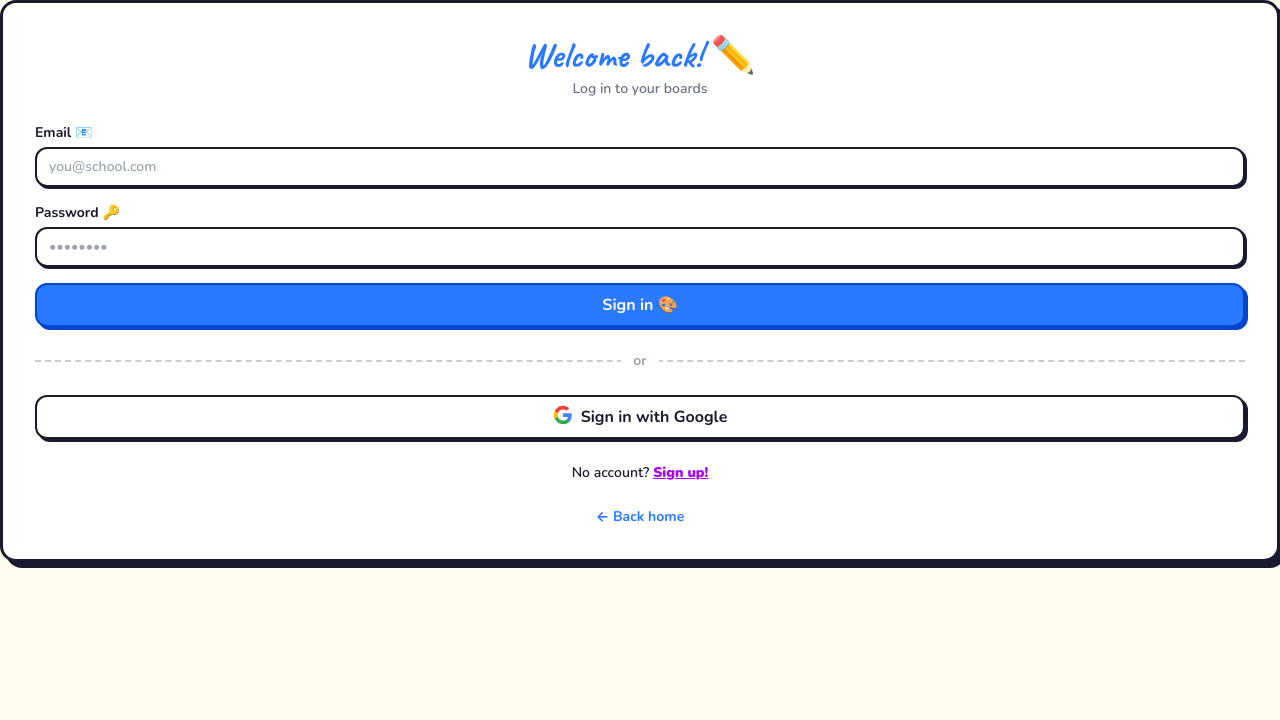
Test: LoginForm › invalid-credential error › shows invalid credential error with "made an account" link
Type "test@example.com" into the field labelled "Email 📧" at [640, 167], box [35,147,1245,187]
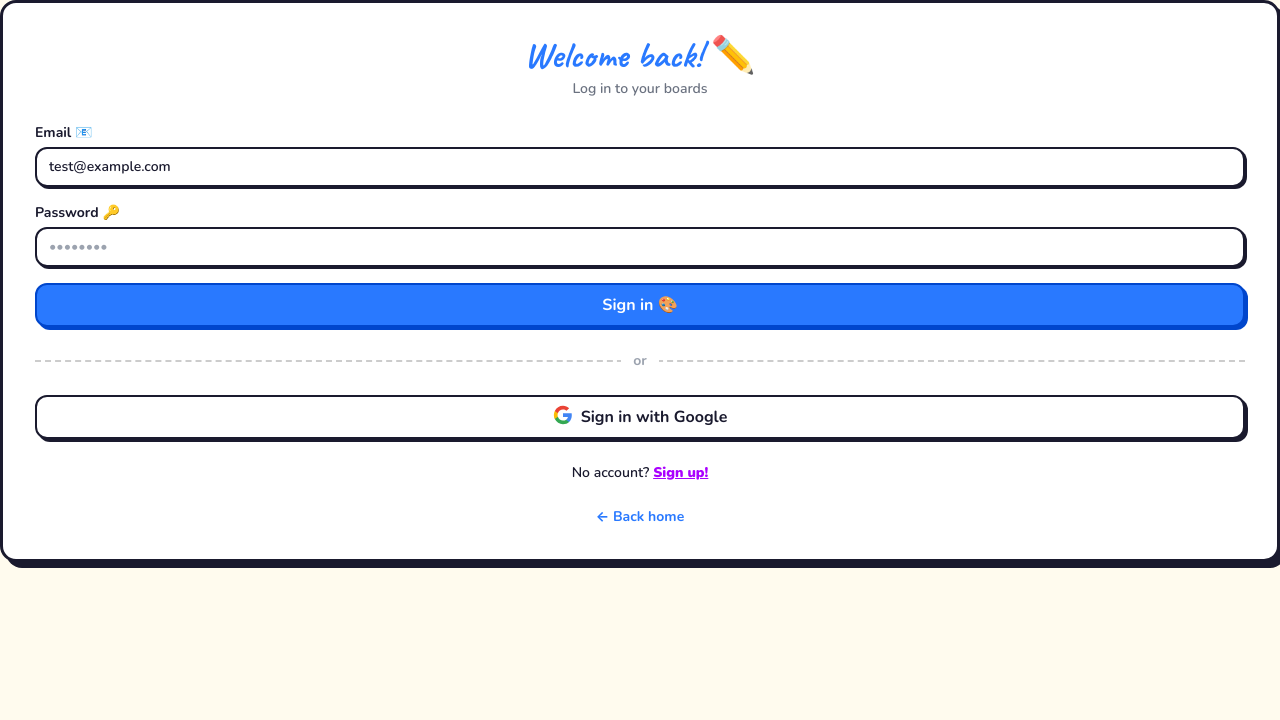
Type "password123" into the password field labelled "Password 🔑" at [640, 247], box [35,227,1245,267]
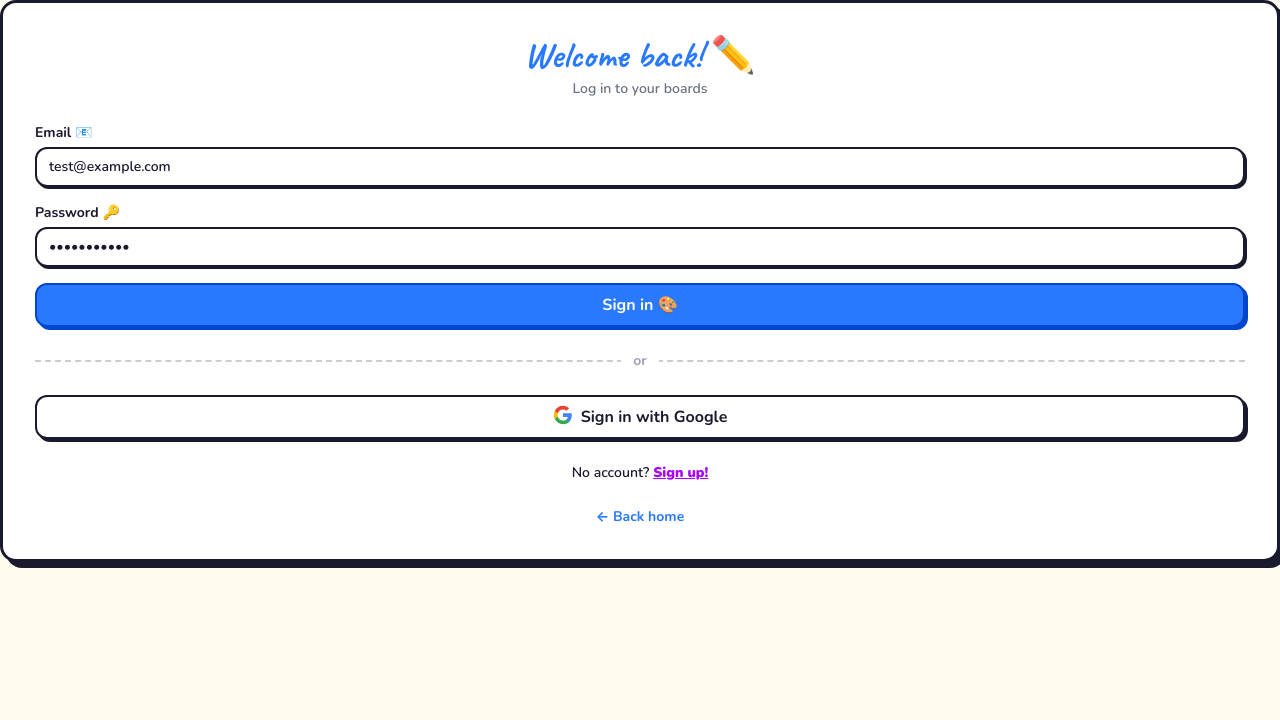
Click the button "Sign in 🎨" at [640, 305], box [35,283,1245,327]
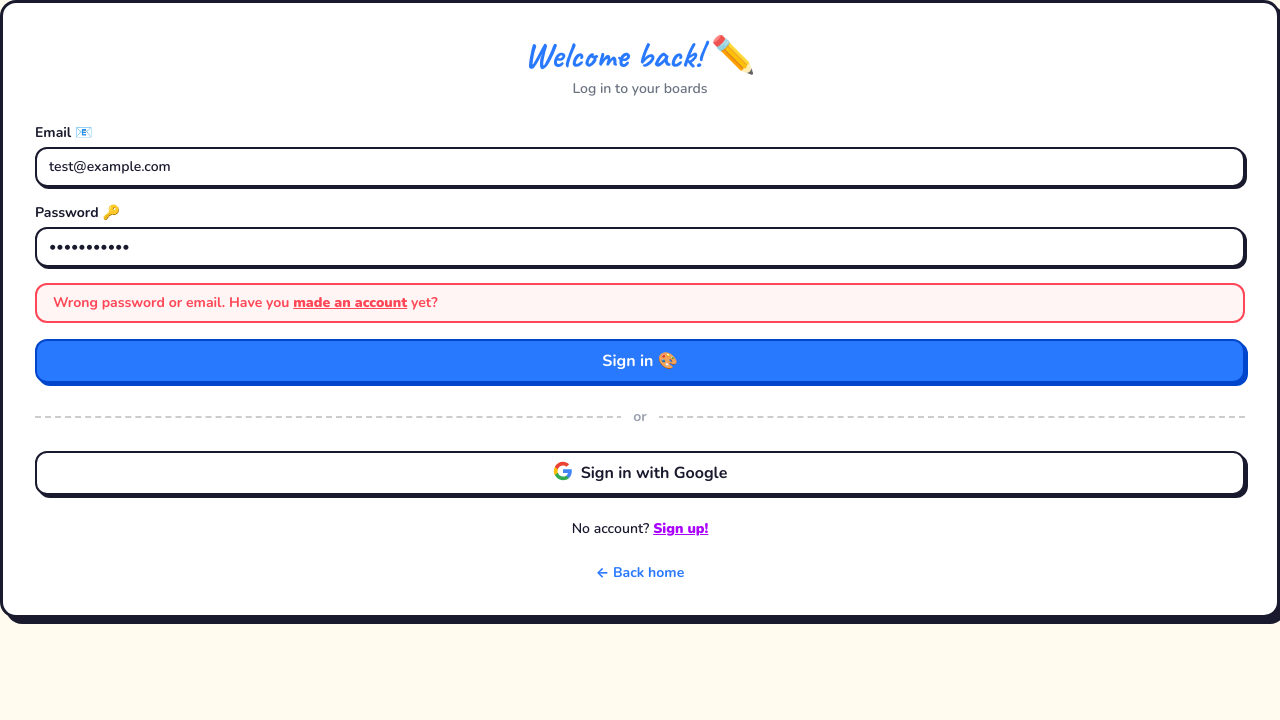
Result: the text "Wrong password or email. Have you made an account yet?" is shown at [35,283,1245,323]
